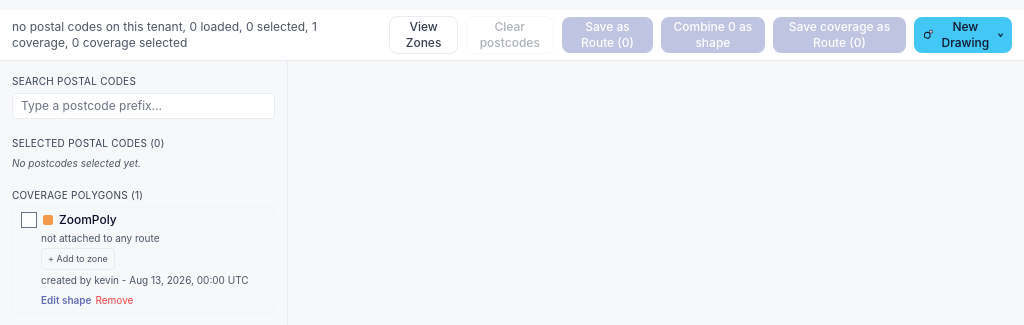
Test case: PolygonBuilder - coverage polygons + viewport › clicking a polygon name selects + zooms
(page scrolled)
Click the button "ZoomPoly" at point(162, 220), box [59, 212, 266, 228]
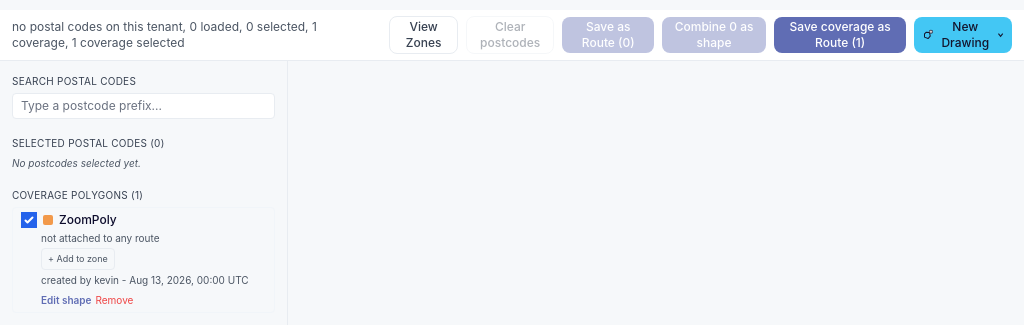
Check: the button "Save coverage as Route (1)" is shown, box [774, 17, 906, 53]
